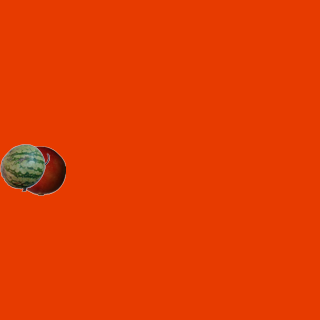Apple Braeburn: (15, 145, 65, 195)
Watermelon: (0, 142, 49, 192)
